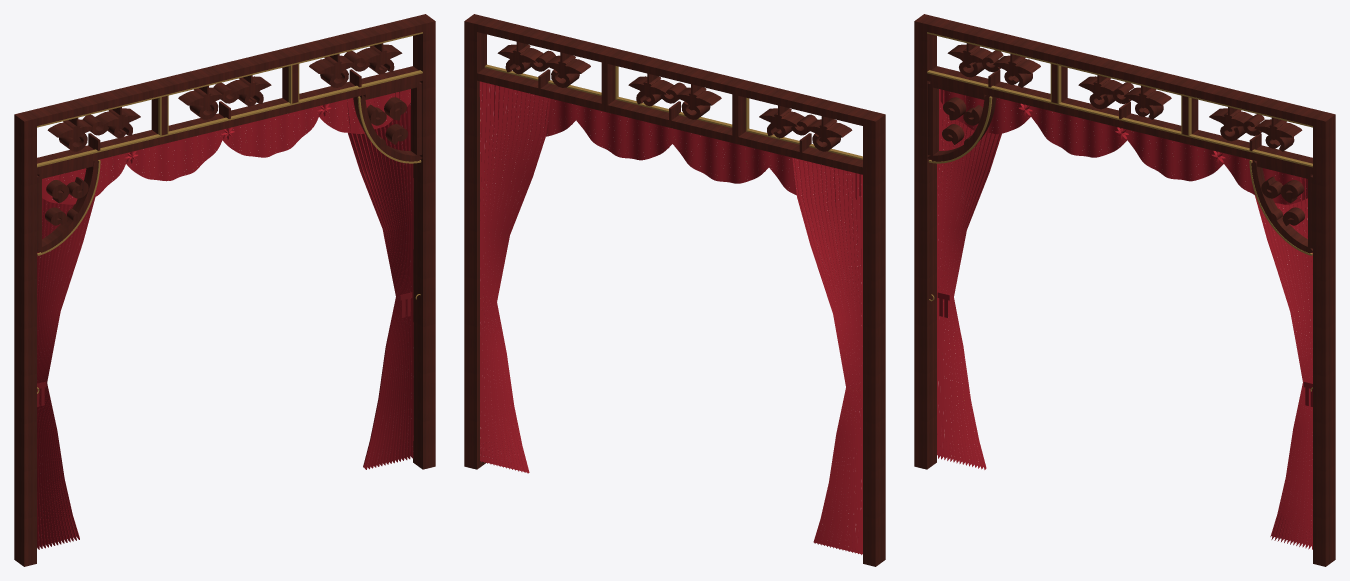
File: nuange-zhao-v1.glb
The picture shows the model from 3 angles, left to right: view 1: azimuth 30°, elevation 25°; view 2: azimuth 150°, elevation 25°; view 3: azimuth 330°, elevation 25°; orthographic projection.
Parts seen in each view (by area): view 1: zhao_mu, zhao_man, zhao_jin; view 2: zhao_mu, zhao_man, zhao_jin; view 3: zhao_mu, zhao_man, zhao_jin.
Part boxes in pixels (x1,y1,x2,y2): zhao_mu: [14, 14, 435, 566]; zhao_man: [37, 89, 413, 549]; zhao_jin: [37, 32, 422, 393]; zhao_mu: [464, 14, 885, 566]; zhao_man: [479, 81, 862, 554]; zhao_jin: [484, 64, 862, 159]; zhao_mu: [914, 14, 1335, 566]; zhao_man: [937, 89, 1312, 549]; zhao_jin: [927, 32, 1312, 391].
Size of the model in its own units: 2.9 by 3 by 0.12.
Materials: 4 (2 with a texture image).
